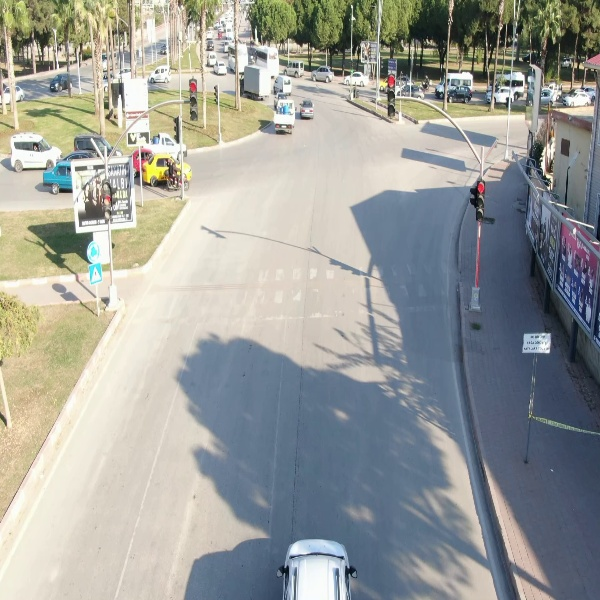car: (8, 132, 65, 173), (558, 87, 593, 109), (1, 82, 29, 104), (441, 86, 476, 103), (308, 64, 336, 85), (49, 73, 76, 94), (281, 60, 305, 81), (147, 65, 170, 86), (341, 69, 369, 86), (298, 96, 316, 122), (212, 58, 228, 78)
